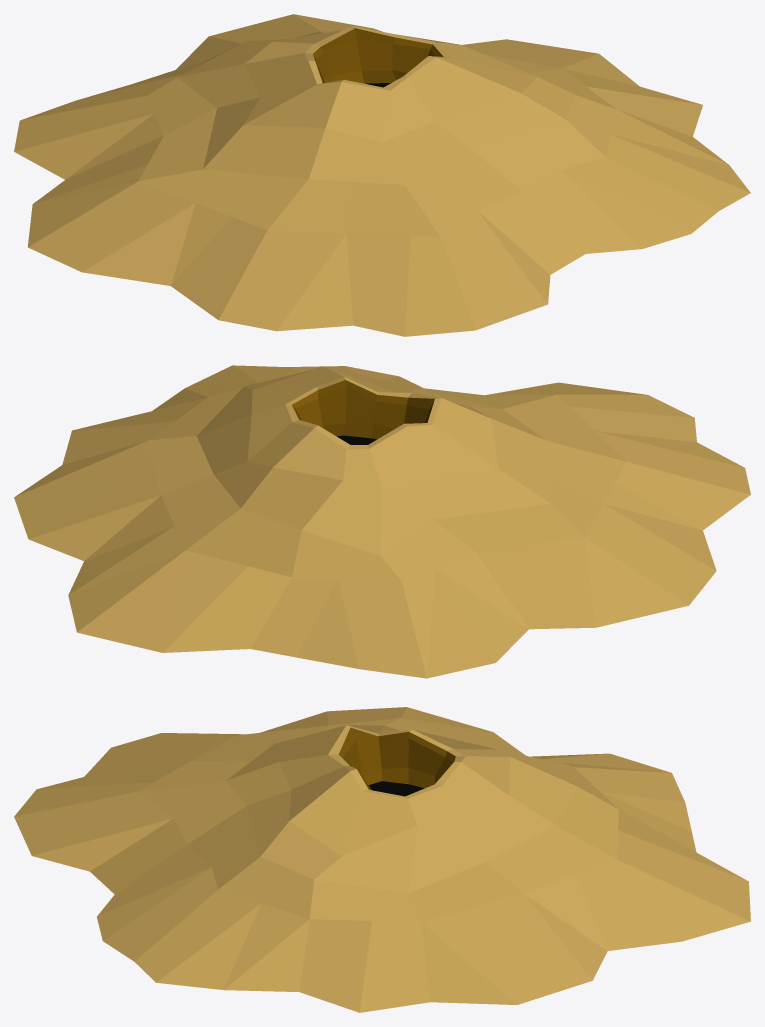
Rendered from anthill.fbx.
3 renders of one model, top to bottom at view 1: azimuth 30°, elevation 25°; view 2: azimuth 150°, elevation 25°; view 3: azimuth 270°, elevation 25°, orthographic. The views are drawn at different scales.
Visible parts, largest first — view 1: AntHill; view 2: AntHill; view 3: AntHill.
Part boxes in pixels (x1,y1,x2,y2): AntHill: (14, 14, 750, 336); AntHill: (14, 365, 750, 678); AntHill: (14, 707, 750, 1012).
Size of the model in its own units: 227 by 41.78 by 230.
